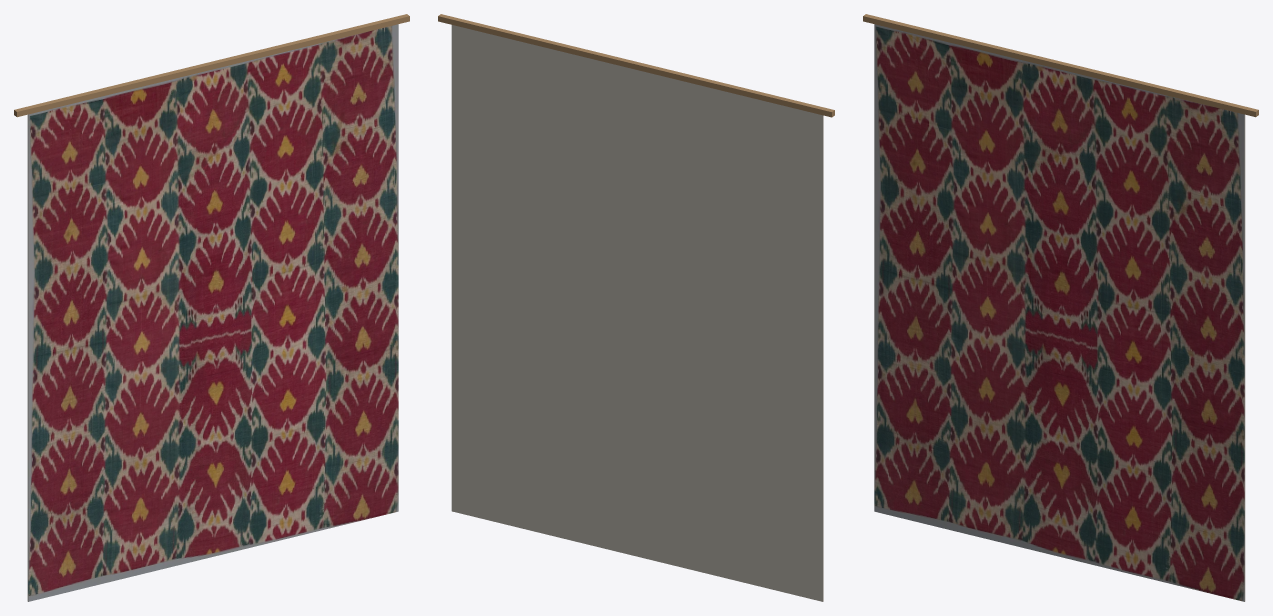
The model's file is tapestry-uzbek-ikat.glb.
3 renders of one model, left to right at view 1: azimuth 30°, elevation 25°; view 2: azimuth 150°, elevation 25°; view 3: azimuth 330°, elevation 25°, orthographic.
Parts seen in each view (by area): view 1: tapestry-uzbek-ikat; view 2: tapestry-uzbek-ikat; view 3: tapestry-uzbek-ikat.
Boxes of the visible parts, <box> form: tapestry-uzbek-ikat: <box>14,14,409,601</box>; tapestry-uzbek-ikat: <box>438,14,834,601</box>; tapestry-uzbek-ikat: <box>863,14,1258,601</box>.
Size of the model in its own units: 1.4 by 1.68 by 0.018.
Materials: 3 (1 with a texture image).
